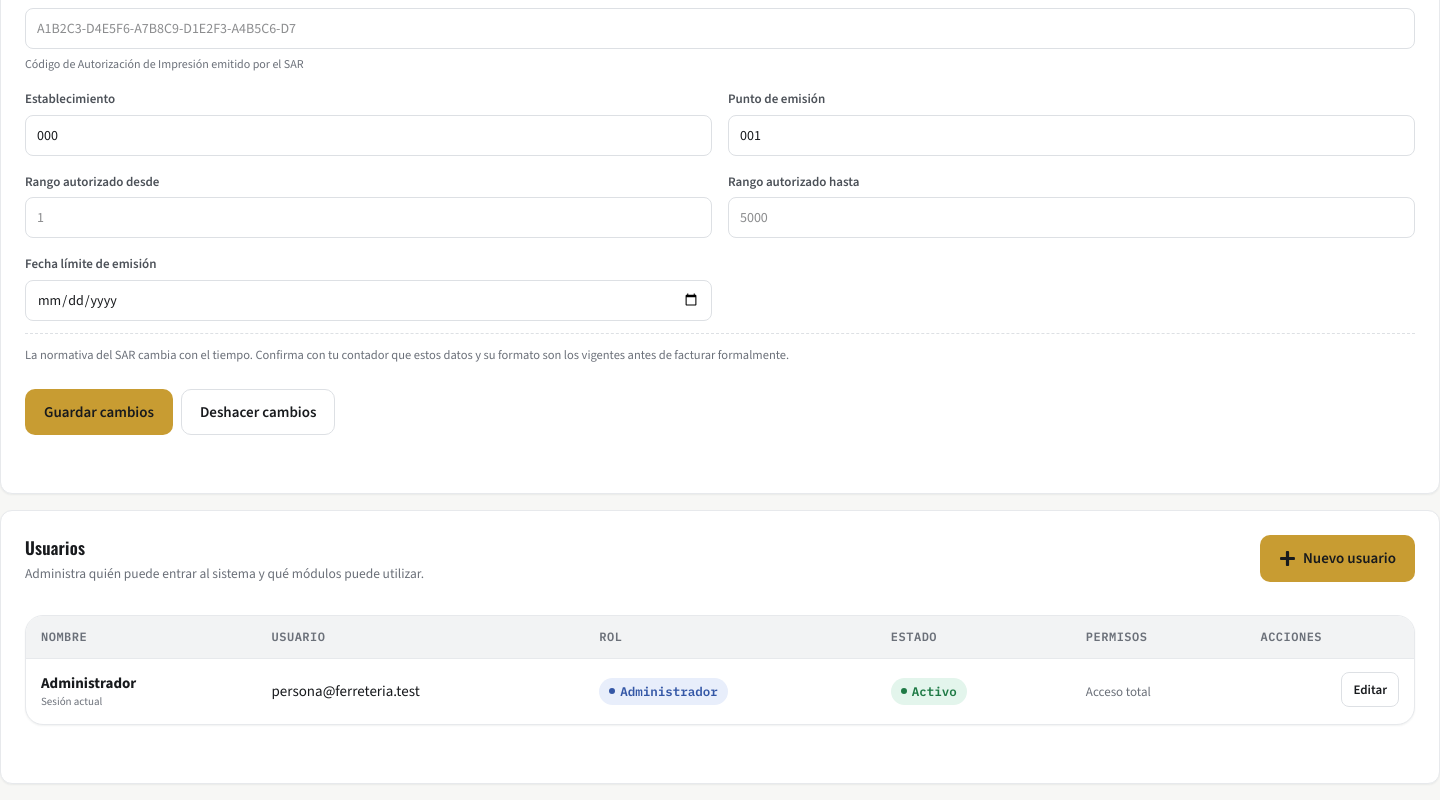
it: Settings: usuarios › abre el formulario de usuario nuevo
(page scrolled)
Click the button "Nuevo usuario": point(1338, 558) [1260, 535, 1415, 582]
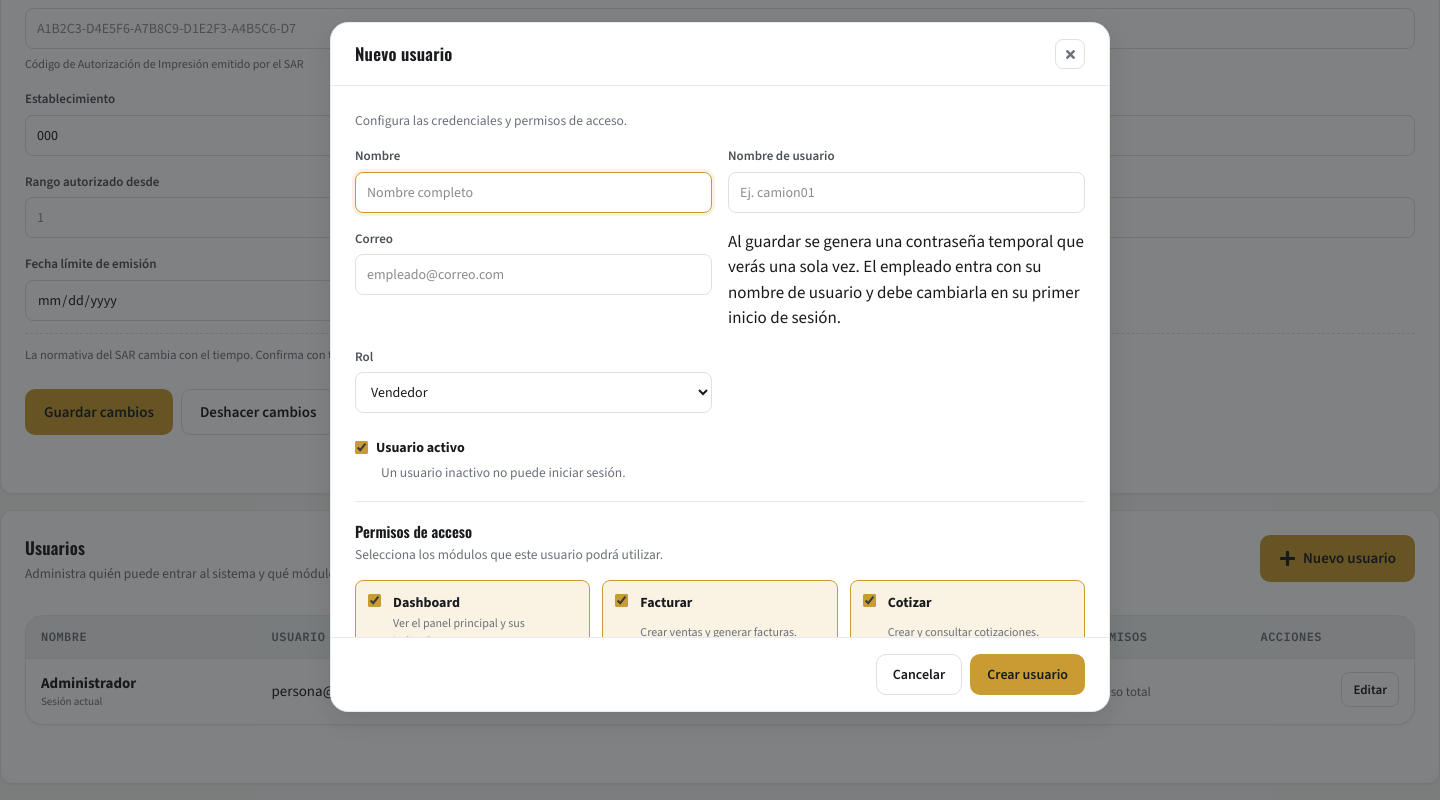
expect the heading "Nuevo usuario" is shown: met, box [355, 41, 452, 67]
